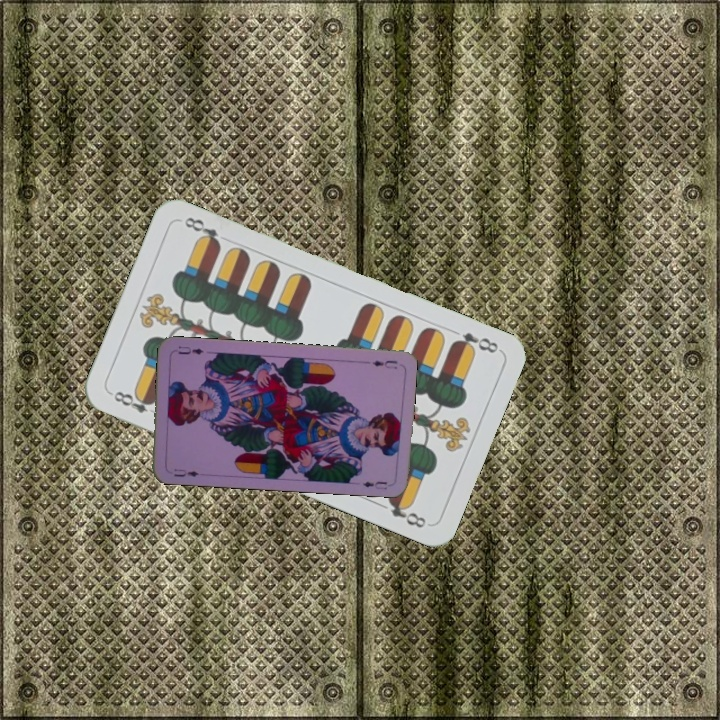E8: (107, 386, 162, 419), (447, 328, 501, 356)
EU: (368, 356, 400, 372), (170, 465, 201, 479)
